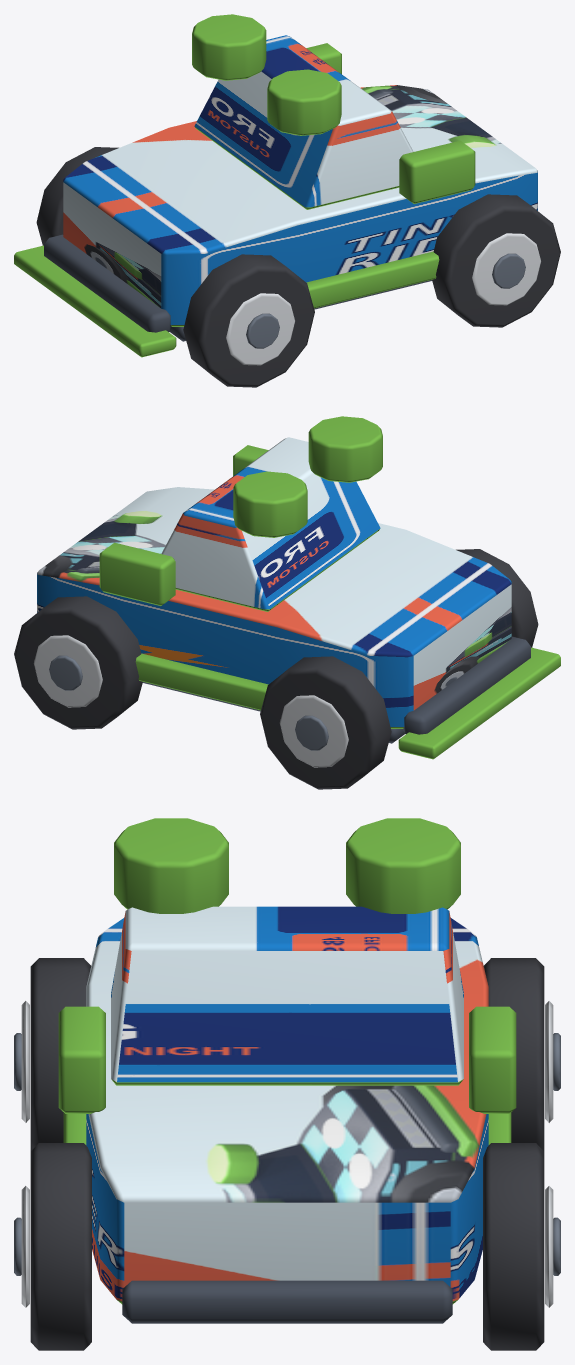
3 renders of one model, top to bottom at view 1: azimuth 30°, elevation 25°; view 2: azimuth 150°, elevation 25°; view 3: azimuth 270°, elevation 25°, orthographic. The views are drawn at different scales.
Parts seen in each view (by area): view 1: CR-04_connected_shell, CR-04_cabin, Tire, Tire.002, custom chin, eye housing, eye housing.001, front bumper, custom side fin, custom side guard, Rim.002, Rim (+4 smaller); view 2: CR-04_connected_shell, CR-04_cabin, Tire.001, Tire.003, custom chin, eye housing.001, eye housing, front bumper, custom side fin.001, custom side guard.001, Rim.003, Rim.001 (+4 smaller); view 3: CR-04_connected_shell, CR-04_cabin, rear bumper, Tire.002, Tire.003, eye housing, eye housing.001, Tire, Tire.001, custom side fin, custom side fin.001, Rim (+5 smaller).
Boxes of the visible parts, left/top/right/bottom form: CR-04_connected_shell: left=63, top=85, right=537, bottom=326; CR-04_cabin: left=194, top=35, right=413, bottom=209; Tire: left=183, top=254, right=314, bottom=387; Tire.002: left=432, top=194, right=560, bottom=327; custom chin: left=14, top=245, right=176, bottom=357; eye housing: left=267, top=69, right=341, bottom=135; eye housing.001: left=192, top=14, right=266, bottom=80; front bumper: left=44, top=234, right=171, bottom=332; custom side fin: left=399, top=140, right=475, bottom=203; custom side guard: left=306, top=251, right=439, bottom=308; Rim.002: left=472, top=233, right=540, bottom=305; Rim: left=226, top=293, right=294, bottom=365; CR-04_connected_shell: left=37, top=487, right=511, bottom=728; CR-04_cabin: left=161, top=437, right=380, bottom=611; Tire.001: left=260, top=656, right=391, bottom=789; Tire.003: left=14, top=596, right=142, bottom=729; custom chin: left=398, top=647, right=560, bottom=759; eye housing.001: left=233, top=471, right=307, bottom=537; eye housing: left=308, top=416, right=382, bottom=482; front bumper: left=403, top=636, right=530, bottom=734; custom side fin.001: left=99, top=542, right=175, bottom=605; custom side guard.001: left=135, top=653, right=268, bottom=710; Rim.003: left=34, top=635, right=102, bottom=707; Rim.001: left=280, top=695, right=348, bottom=767; CR-04_connected_shell: left=86, top=918, right=488, bottom=1304; CR-04_cabin: left=111, top=906, right=463, bottom=1085; rear bumper: left=122, top=1280, right=452, bottom=1323; Tire.002: left=30, top=1143, right=91, bottom=1350; Tire.003: left=483, top=1143, right=544, bottom=1350; eye housing: left=114, top=818, right=228, bottom=913; eye housing.001: left=346, top=818, right=460, bottom=913; Tire: left=30, top=958, right=91, bottom=1150; Tire.001: left=483, top=958, right=544, bottom=1150; custom side fin: left=58, top=1006, right=105, bottom=1113; custom side fin.001: left=469, top=1006, right=516, bottom=1113; Rim: left=21, top=1001, right=29, bottom=1122.
Size of the model in its own units: 317 by 180 by 231.
